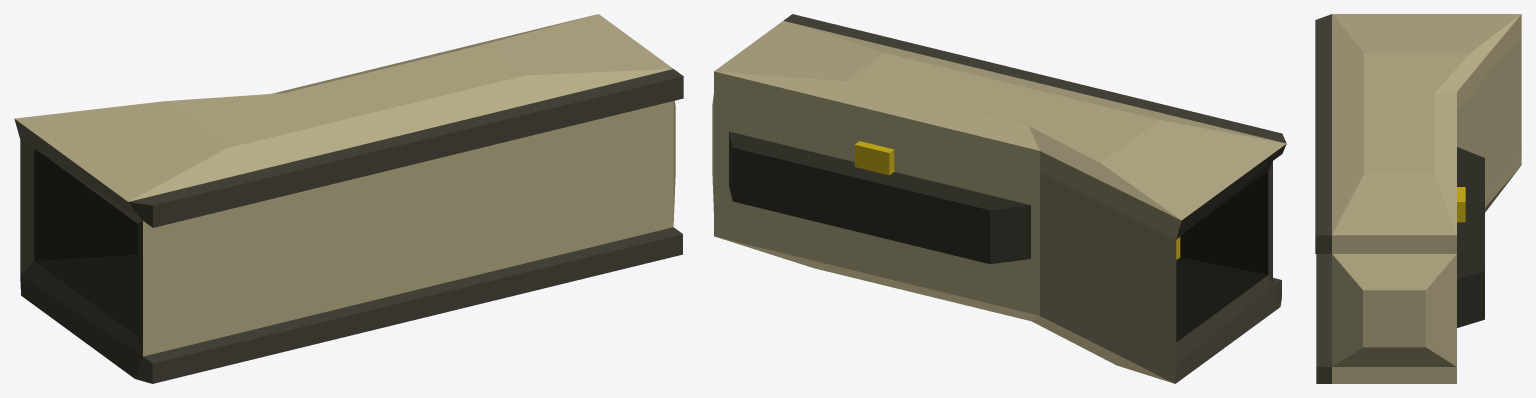
File: thermal_scope.glb
The picture shows the model from 3 angles, left to right: view 1: azimuth 30°, elevation 25°; view 2: azimuth 150°, elevation 25°; view 3: azimuth 270°, elevation 25°; orthographic projection. The views are drawn at different scales.
Visible parts, largest first — view 1: Cube; view 2: Cube; view 3: Cube.
Boxes of the visible parts, x1,y1,x2,y2 form: Cube: (14,14,683,383); Cube: (712,14,1286,383); Cube: (1315,14,1521,383).
Bounding box in the file's own units: 1.53 × 0.5379 × 0.5815.
1 material, 1 textured.
